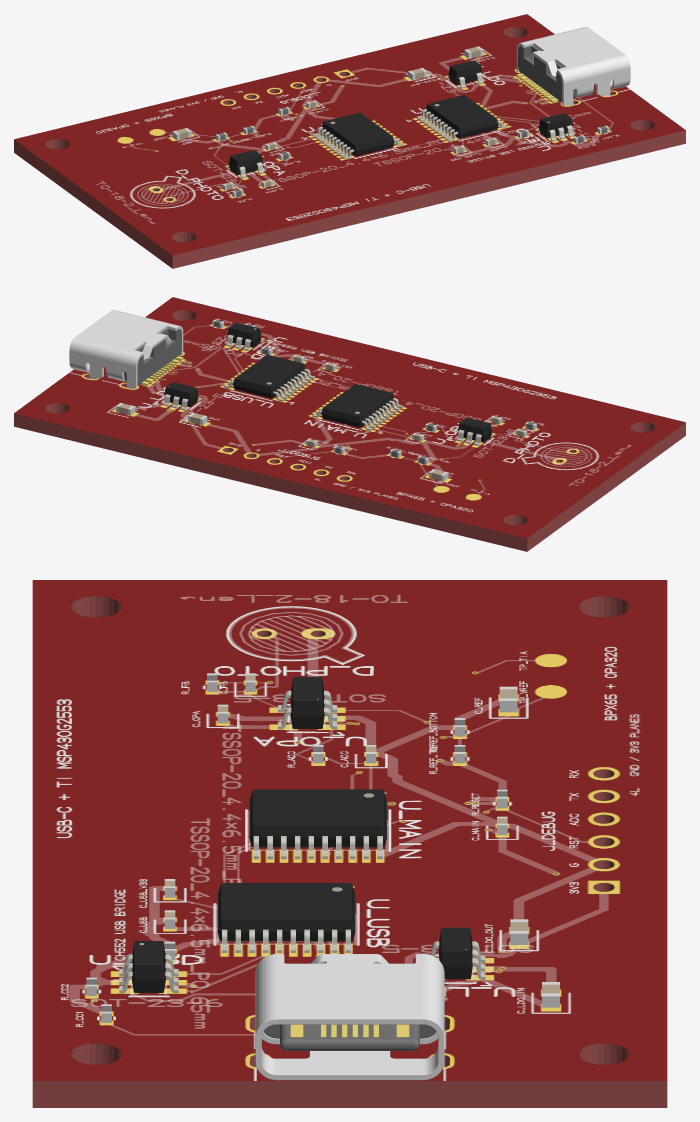
3 renders of one model, top to bottom at view 1: azimuth 30°, elevation 25°; view 2: azimuth 150°, elevation 25°; view 3: azimuth 270°, elevation 25°, orthographic. The views are drawn at different scales.
Visible parts, largest first — view 1: Box0, J1, U_USB, U_MAIN, U_ESD, U_LDO, U_OPA; view 2: Box0, J1, U_MAIN, U_USB, U_ESD, U_LDO, U_OPA; view 3: Box0, J1, U_MAIN, U_USB, U_ESD, U_OPA, U_LDO.
Part boxes in pixels (x1,y1,x2,y2): Box0: (14,14,685,268); J1: (516,27,630,105); U_USB: (416,95,507,141); U_MAIN: (312,112,403,159); U_ESD: (537,113,574,141); U_LDO: (447,60,483,88); U_OPA: (227,150,264,178); Box0: (14,297,685,551); J1: (69,310,183,388); U_MAIN: (312,384,403,430); U_USB: (224,354,314,401); U_ESD: (226,322,262,350); U_LDO: (163,382,199,410); U_OPA: (456,417,493,445); Box0: (32,580,667,1107); J1: (255,954,444,1080); U_MAIN: (249,789,386,859); U_USB: (217,883,355,952); U_ESD: (119,941,178,993); U_OPA: (278,677,337,729); U_LDO: (431,927,485,979).
Size of the model in its own units: 56.04 by 4.65 by 30.
13 materials, 2 textured.
